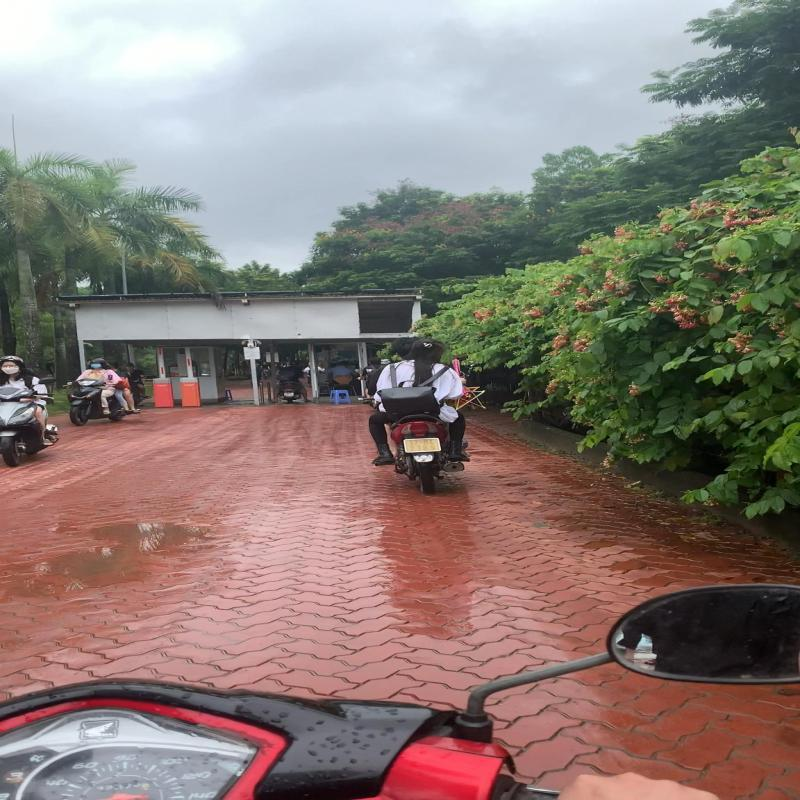licenseplate: (404, 438, 442, 453)
motorcyclist: (353, 332, 476, 494)
nohelmet: (413, 336, 444, 362), (392, 336, 423, 358)
